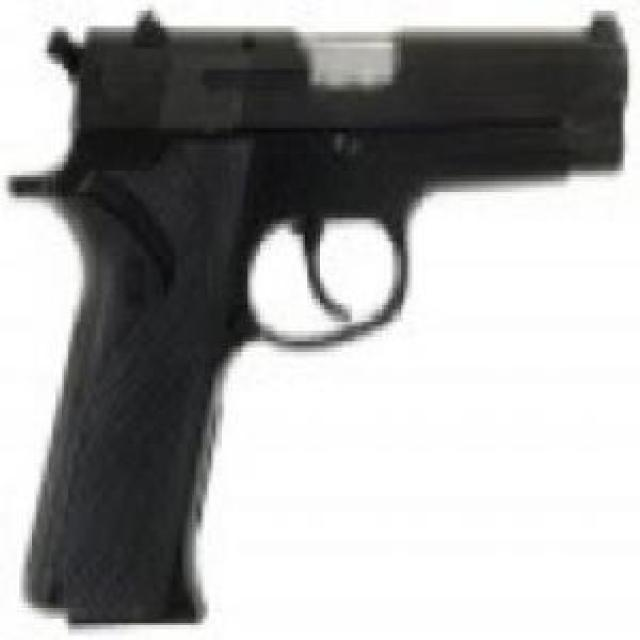pistol: (9, 17, 634, 620)
